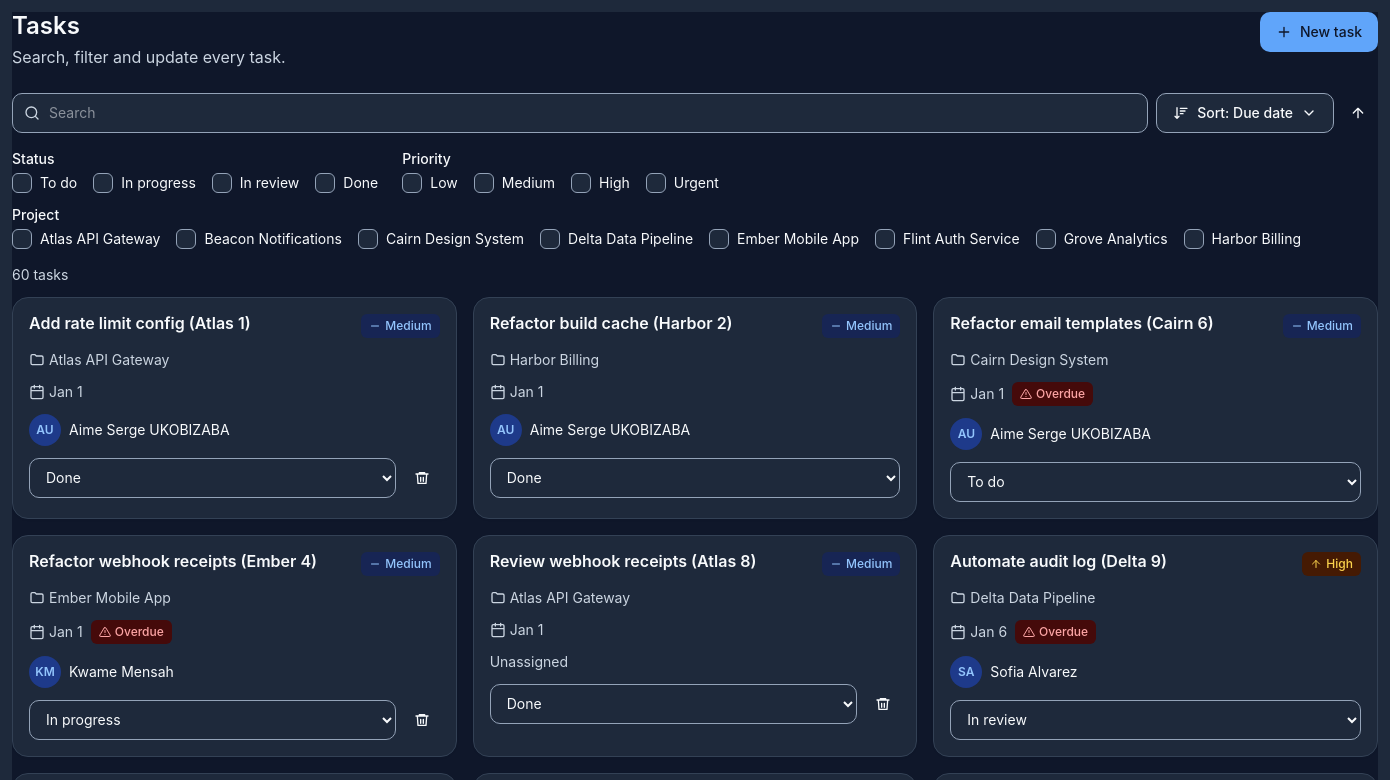
Test case: TC-054 tasks page (FR-15..19, FR-21) › TC-019 update-fails rolls the status back and shows an error toast
Select "In progress" in the dropdown below "Add rate limit config (Atlas 1)" at (213, 478), box [29,458,396,498]
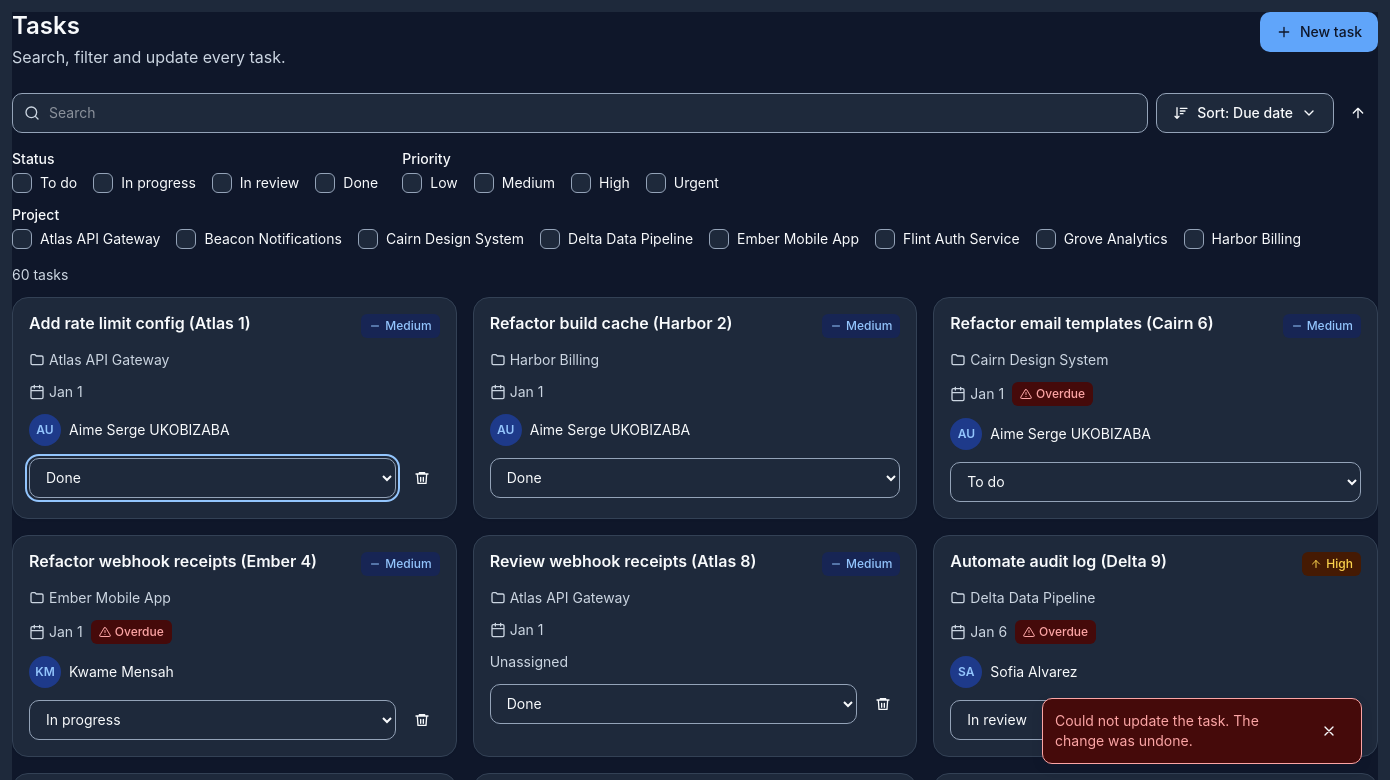
Check: the text "Could not update the task. The change was undone." is shown, box [1055,712,1259,749]
